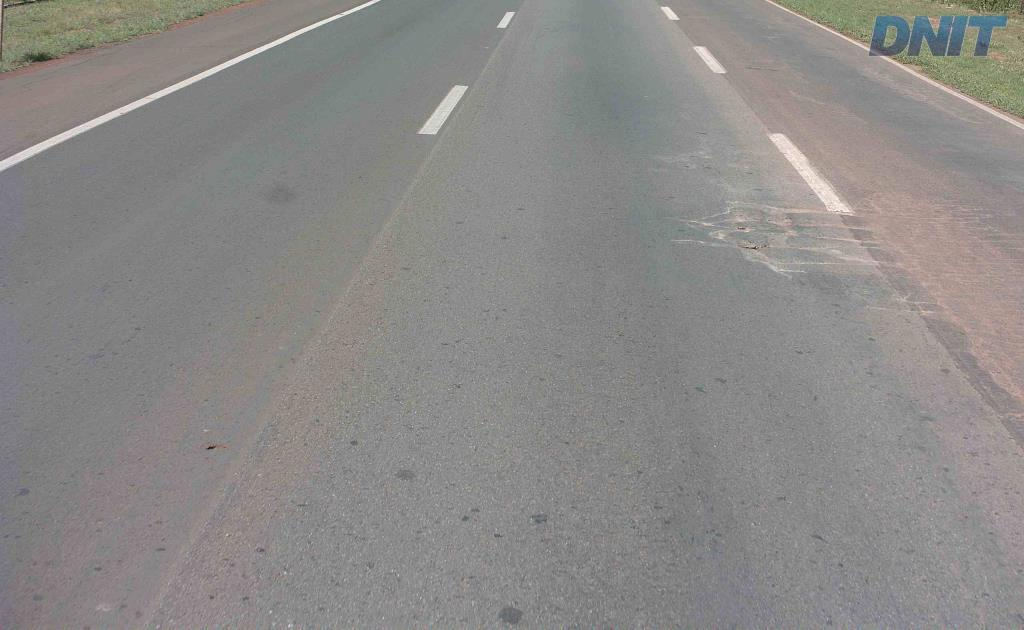pothole: (737, 238, 763, 251), (733, 223, 753, 233)
